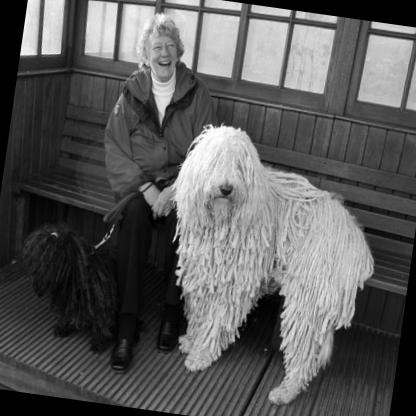komondor: (142, 111, 392, 416)
